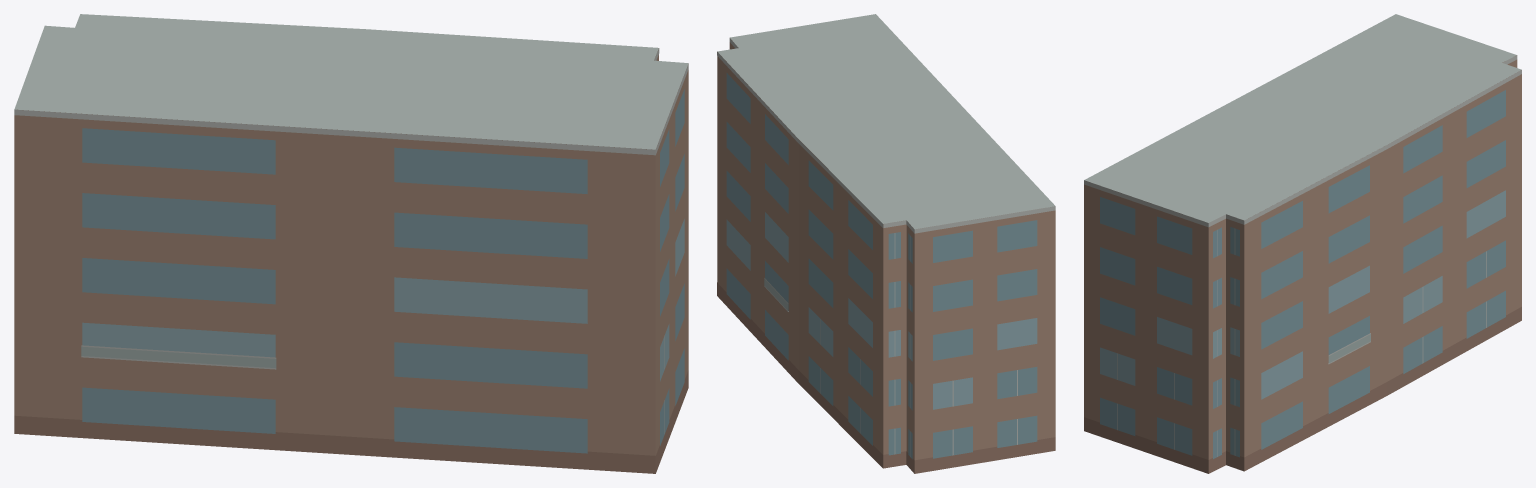
Rendered from survey-upis-32669922.glb.
3 renders of one model, left to right at view 1: azimuth 30°, elevation 25°; view 2: azimuth 150°, elevation 25°; view 3: azimuth 270°, elevation 25°, orthographic. The views are drawn at different scales.
Parts seen in each view (by area): view 1: survey-upis-32669922.tmp; view 2: survey-upis-32669922.tmp; view 3: survey-upis-32669922.tmp.
Part boxes in pixels (x1,y1,x2,y2): survey-upis-32669922.tmp: (14,14,688,473); survey-upis-32669922.tmp: (717,14,1055,473); survey-upis-32669922.tmp: (1084,14,1521,473).
Bounding box in the file's own units: 25.19 × 14.1 × 22.3.
